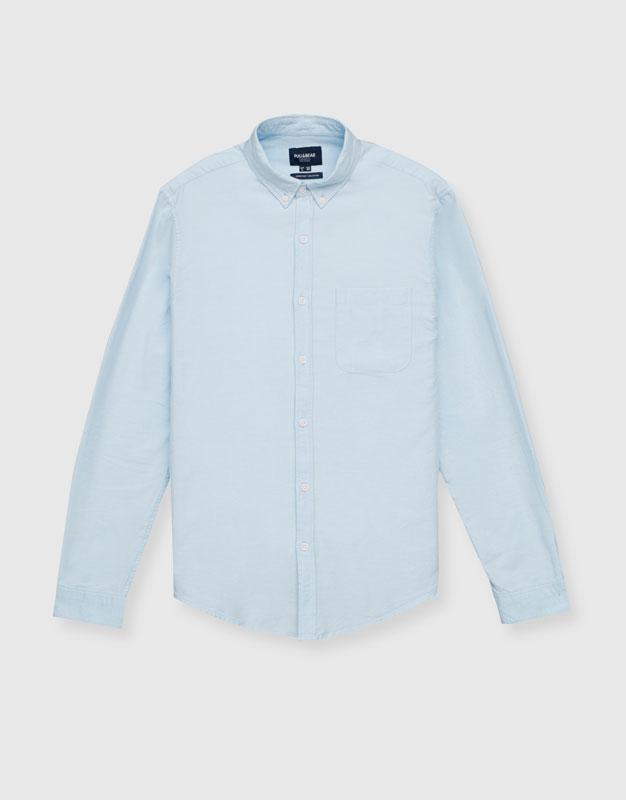teeshirt: (42, 112, 595, 695)
